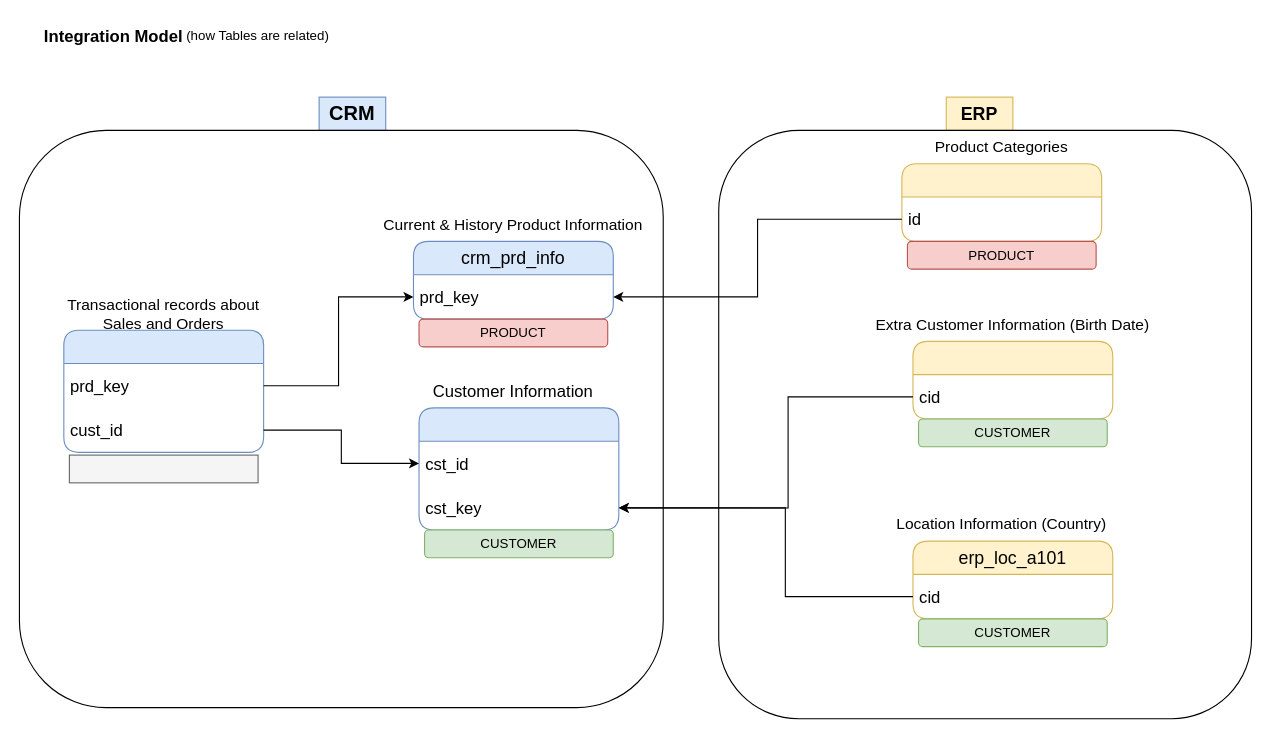
The diagram is 1271 pixels wide and 738 high, and some of its shapes have lost their labels. Each missing label, with the box of its shape:
crm_cust_info: (418, 407, 619, 530)
crm_sales_details: (63, 329, 264, 452)
erp_cust_az12: (912, 340, 1113, 419)
erp_px_cat_g1v2: (901, 163, 1102, 241)
SALES: (68, 454, 258, 483)
